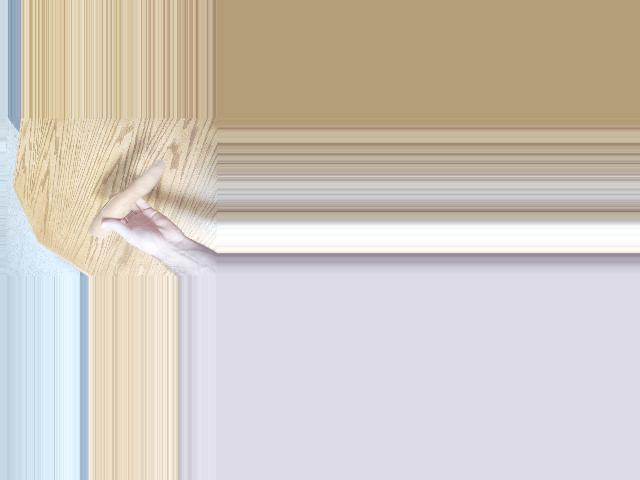sweet_potato: (91, 162, 164, 239)
